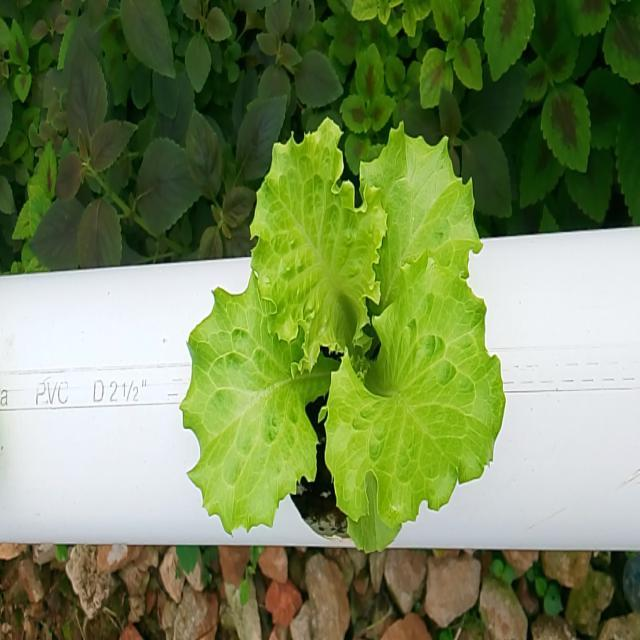Baby: (180, 116, 504, 549)
